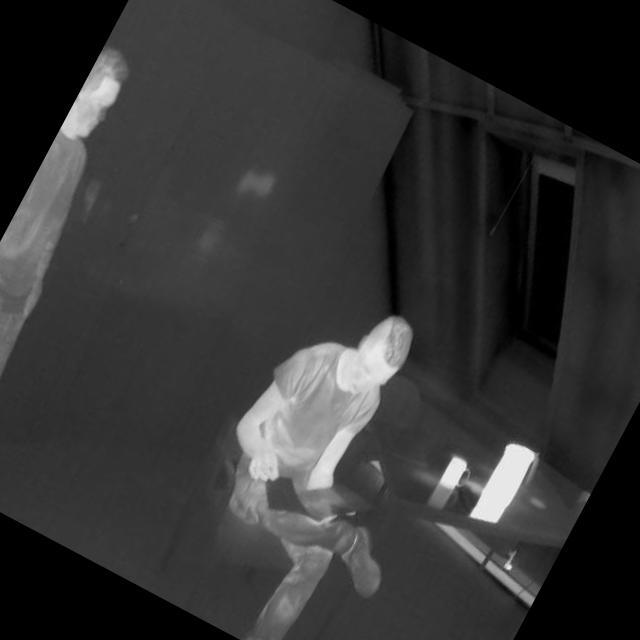person: (146, 264, 505, 640), (0, 33, 175, 482)
